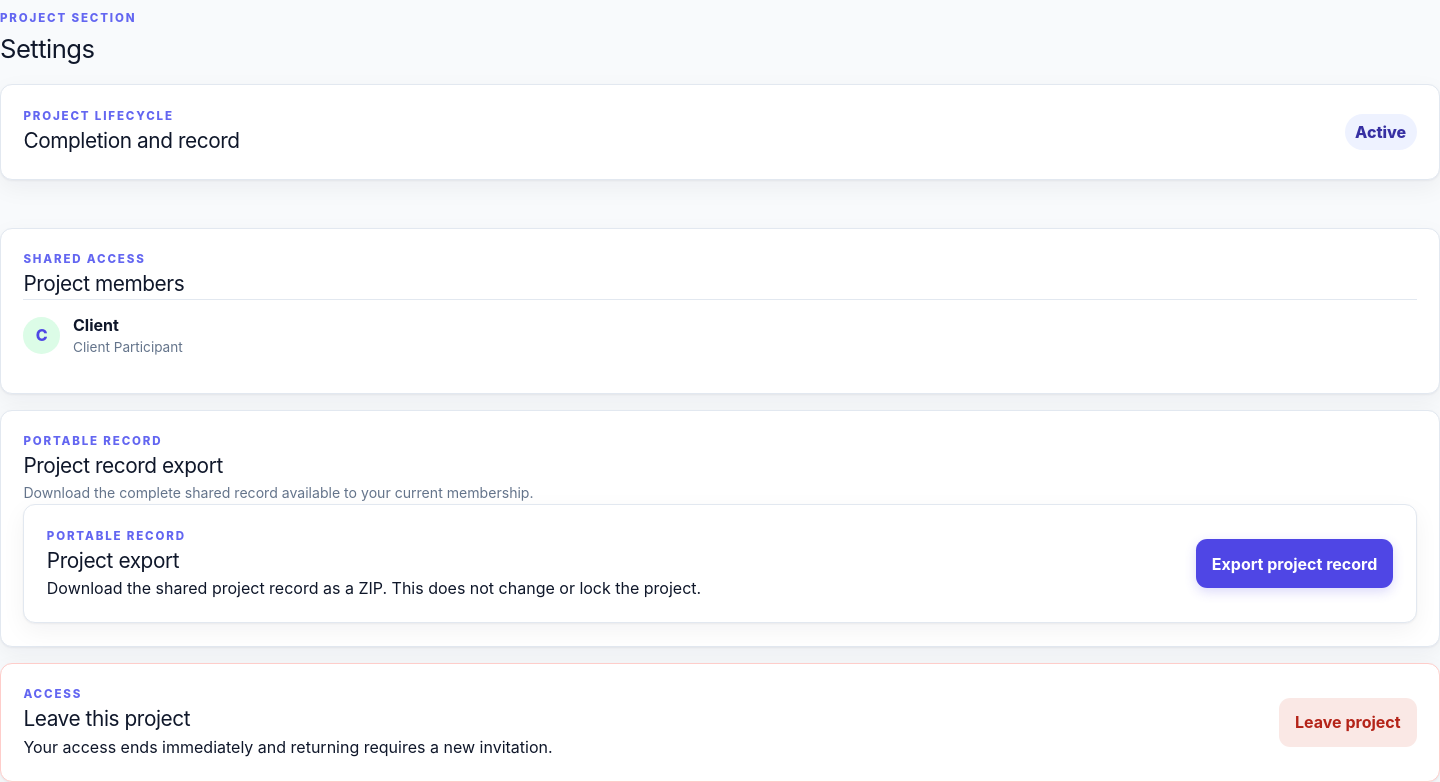
it: Slice 1.1 UI workflows › closes project-leave confirmation and exposes a protected-demo error
(page scrolled)
Click the button "Leave project". click: {"x": 1348, "y": 722}
box: [1279, 698, 1417, 747]
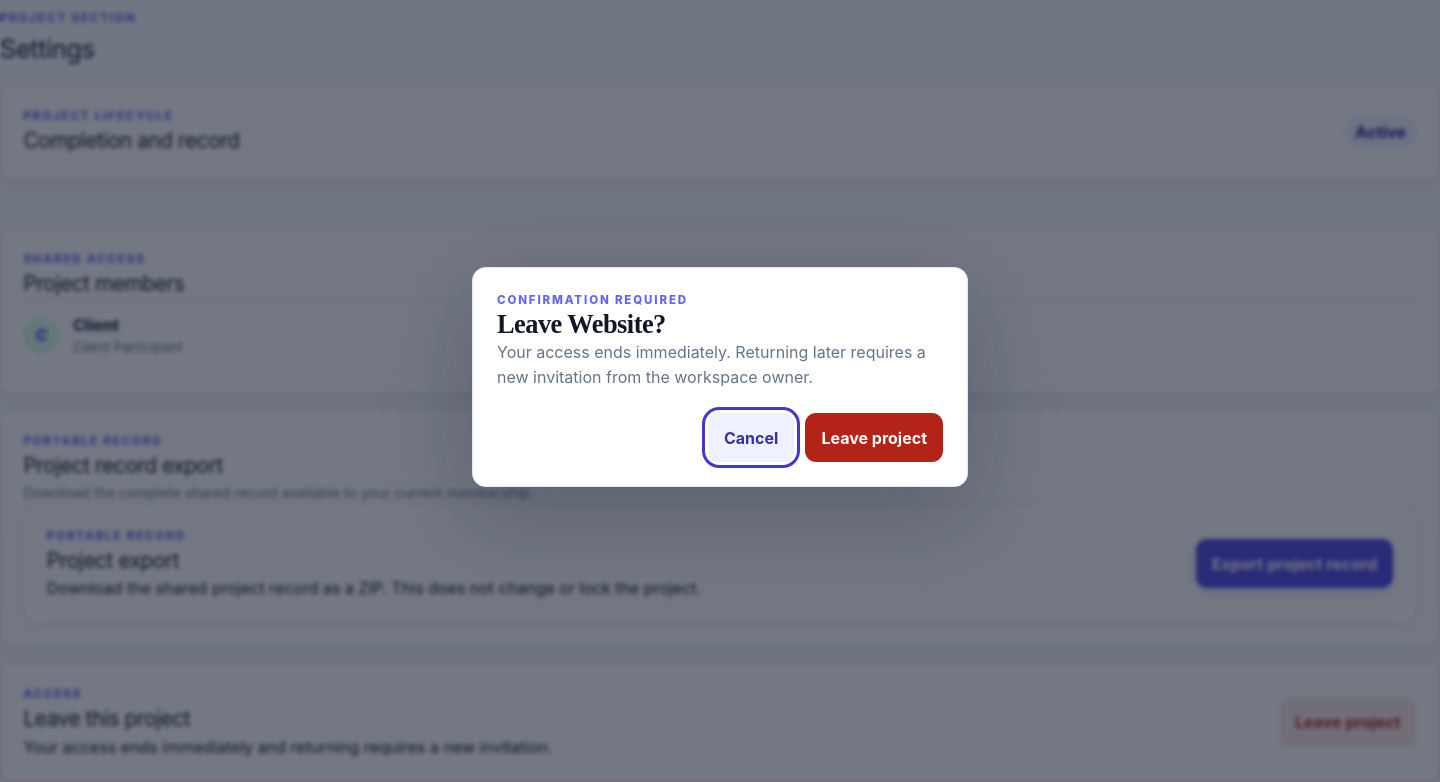
Click the button "Leave project". click: {"x": 874, "y": 438}
box: [806, 414, 943, 462]
(page scrolled)
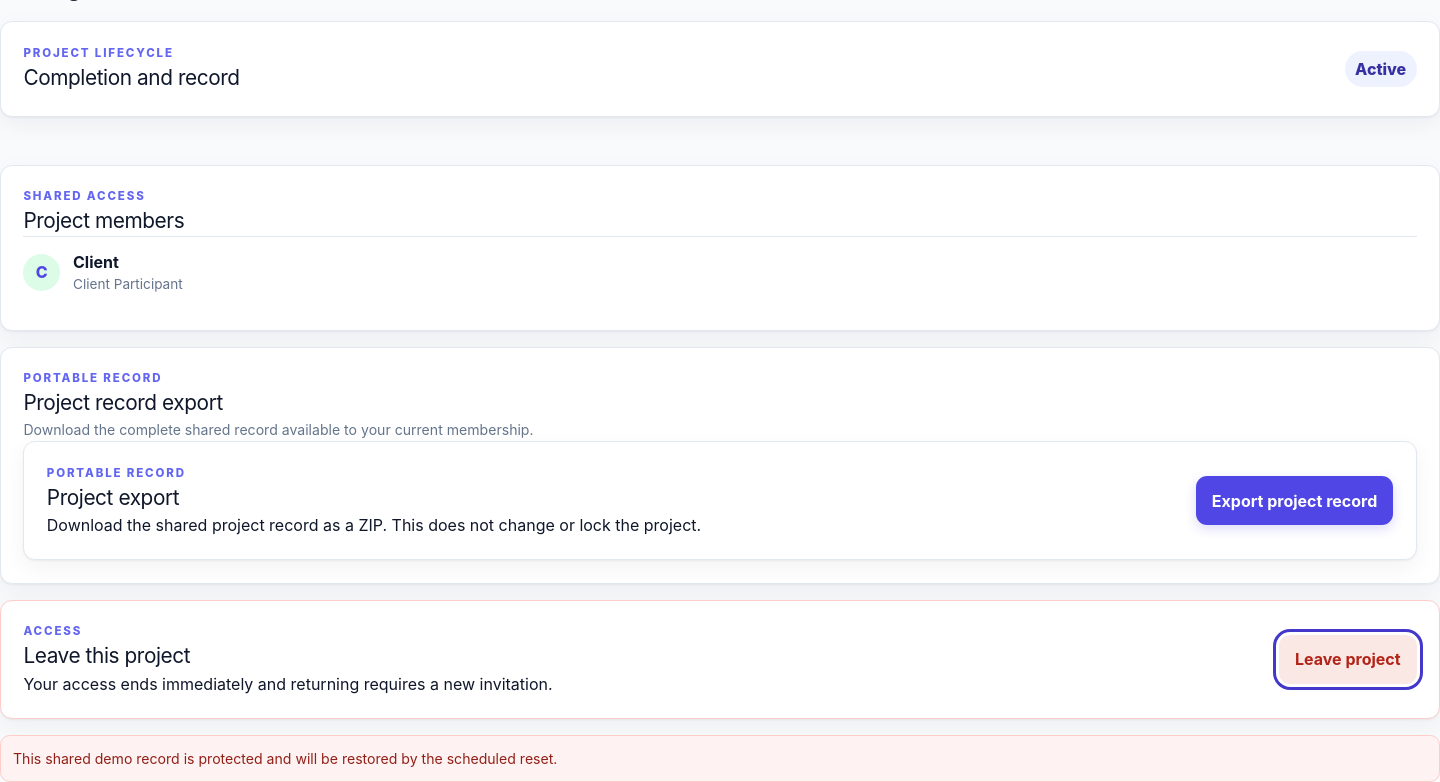
Expected: the dialog is gone
Expected: the message shows "This shared demo record is protected and will be restored by the scheduled reset.", [13, 750, 557, 767]
